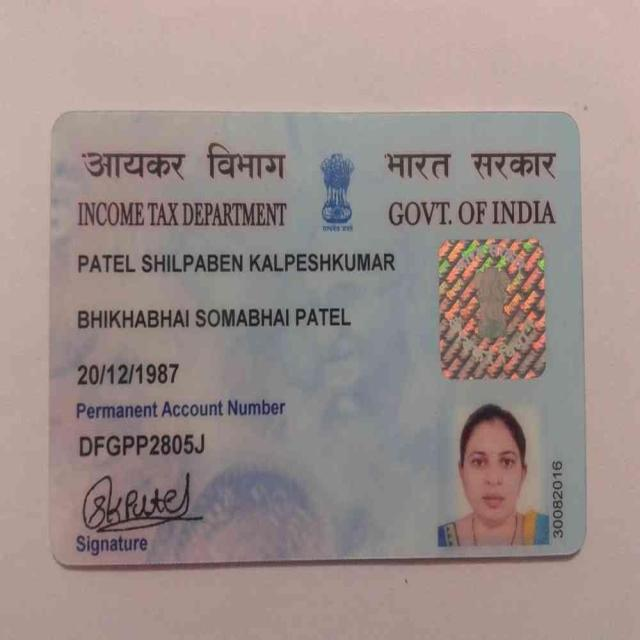pan_card: (54, 120, 580, 560)
